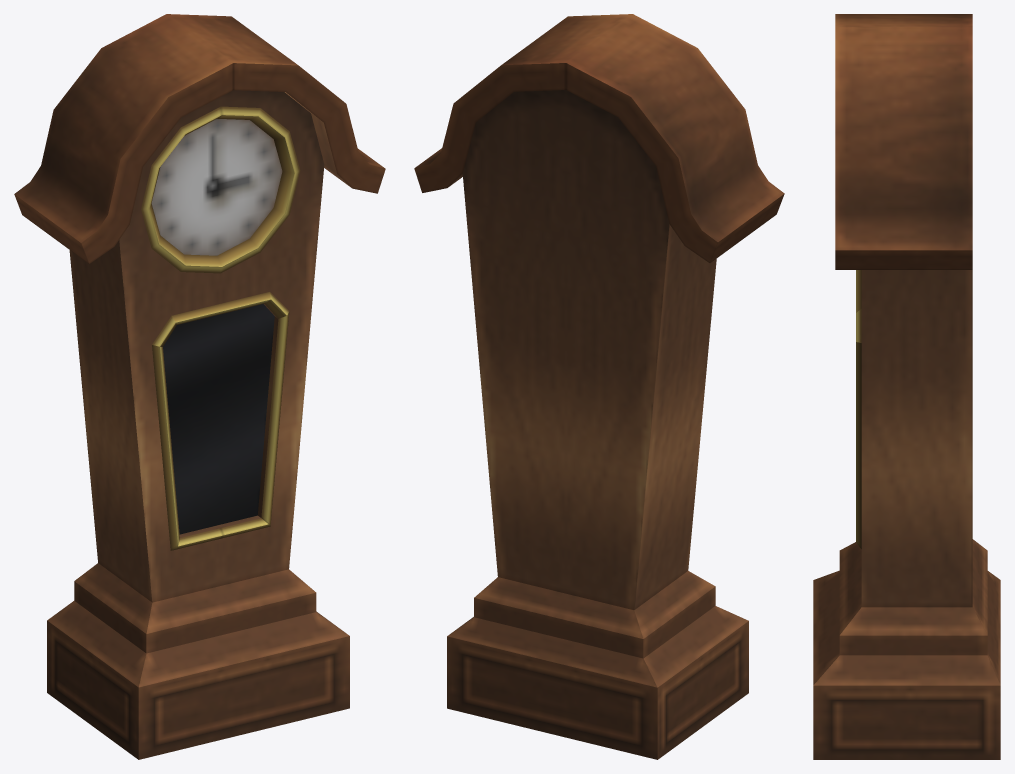
Rendered from Wall Clock.fbx.
The picture shows the model from 3 angles, left to right: view 1: azimuth 30°, elevation 25°; view 2: azimuth 150°, elevation 25°; view 3: azimuth 270°, elevation 25°; orthographic projection. The views are drawn at different scales.
Parts seen in each view (by area): view 1: WallClock, glass; view 2: WallClock; view 3: WallClock.
Part boxes in pixels (x1=…): WallClock: x1=14, y1=14, x2=385, y2=759; glass: x1=163, y1=304, x2=274, y2=534; WallClock: x1=414, y1=14, x2=784, y2=759; WallClock: x1=813, y1=14, x2=1000, y2=759.
Size of the model in its own units: 0.9599 by 2 by 0.5.
